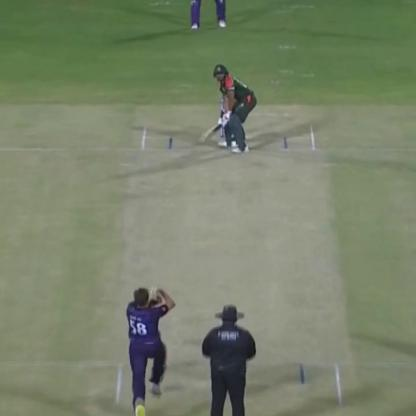bat: (196, 114, 228, 142)
pitch: (116, 136, 346, 408)
